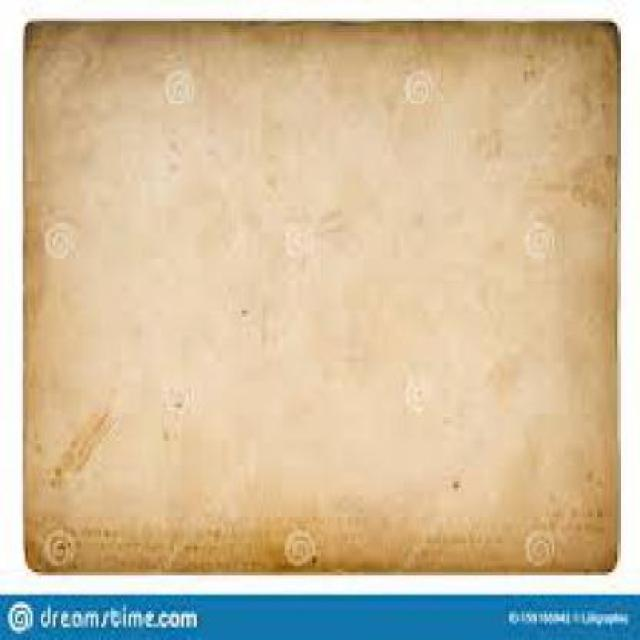PAPER: (20, 15, 615, 572)
